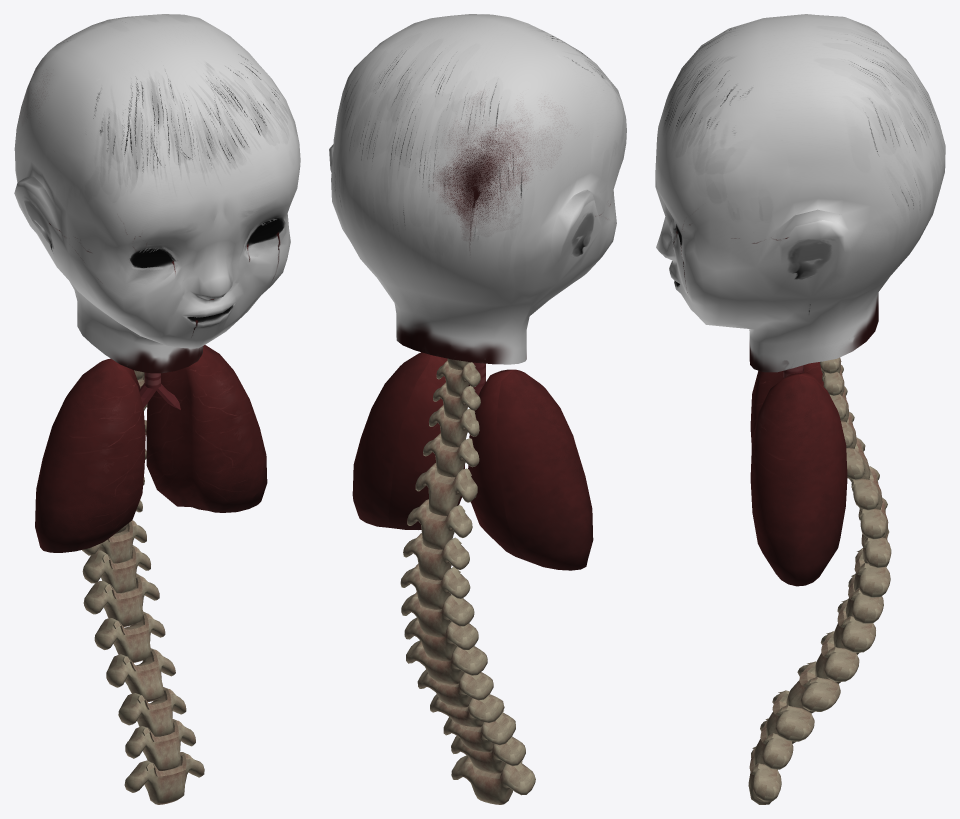
File: BabyPenanggalFloating.fbx
3 views of the same model, side by side, from view 1: azimuth 30°, elevation 25°; view 2: azimuth 150°, elevation 25°; view 3: azimuth 270°, elevation 25° (orthographic). The views are drawn at different scales.
Visible parts, largest first — view 1: Baby, LungLeft, LungLeft001, spine017, spine011, spine013, spine012, spine016, spine014, spine010, spine009, Cylinder001; view 2: Baby, LungLeft, LungLeft001, spine017, spine005, spine011, spine006, spine009, spine008, spine007, spine010, spine012 (+7 smaller); view 3: Baby, LungLeft001, spine013, spine014, spine012, spine011, spine016, spine017, LungLeft, spine009, spine010, spine006 (+3 smaller).
Boxes of the visible parts, x1,y1,x2,y2 form: Baby: (14,14,300,373); LungLeft: (35,358,145,552); LungLeft001: (146,345,267,512); spine017: (124,752,204,804); spine011: (83,573,159,626); spine013: (106,648,175,701); spine012: (94,611,165,662); spine016: (125,719,195,770); spine014: (118,687,186,736); spine010: (82,545,150,592); spine009: (82,520,146,563); Cylinder001: (139,372,180,409); Baby: (329,14,626,364); LungLeft: (468,369,593,570); LungLeft001: (352,352,464,529); spine017: (451,755,535,804); spine005: (415,463,477,516); spine011: (406,640,487,684); spine006: (407,499,472,549); spine009: (401,592,474,637); spine008: (400,563,470,609); spine007: (403,533,469,580); spine010: (404,617,478,661); spine012: (417,669,493,707); Baby: (655,14,945,372); LungLeft001: (750,372,847,586); spine013: (786,661,840,713); spine014: (766,690,814,743); spine012: (815,631,859,683); spine011: (833,599,875,654); spine016: (753,718,793,769); spine017: (748,746,781,804); LungLeft: (750,362,846,446); spine009: (853,548,890,597); spine010: (846,574,883,623); spine006: (851,466,882,510).
Bounding box in the file's own units: 116 × 347 × 119.
